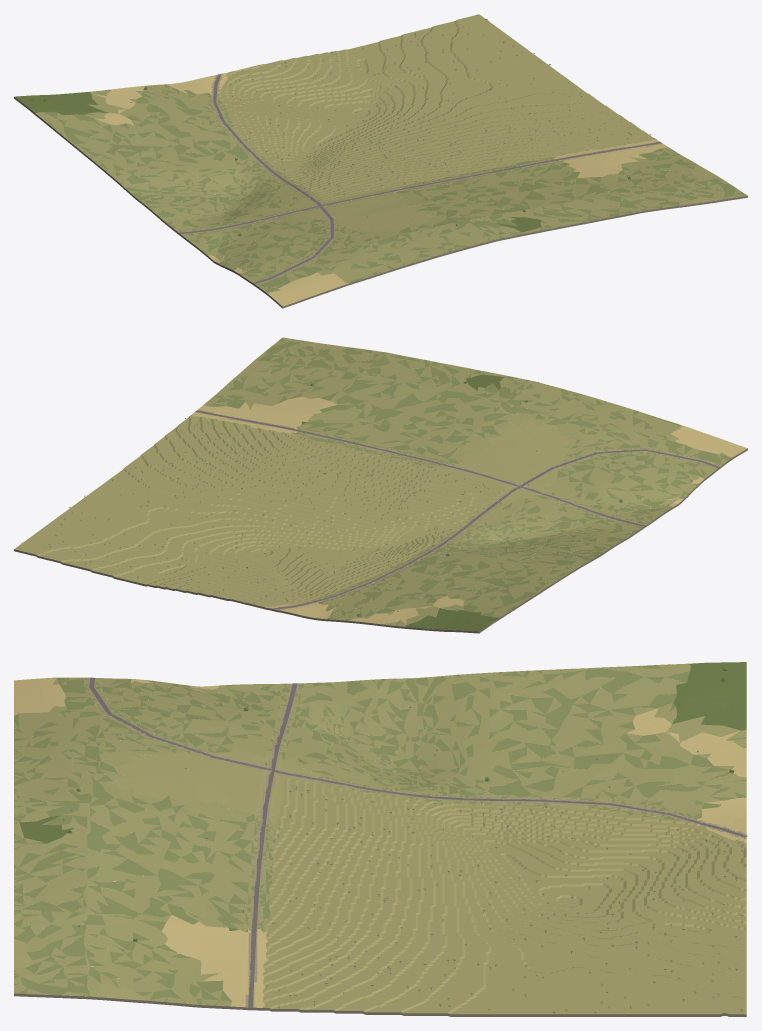
Rendered from parca_+13_-3-yakin.glb.
3 renders of one model, top to bottom at view 1: azimuth 30°, elevation 25°; view 2: azimuth 150°, elevation 25°; view 3: azimuth 270°, elevation 25°, orthographic. The views are drawn at different scales.
Parts seen in each view (by area): view 1: parca_+13_-3_arazi, parca_+13_-3_yollar, parca_+13_-3_bitkiler; view 2: parca_+13_-3_arazi, parca_+13_-3_yollar, parca_+13_-3_bitkiler; view 3: parca_+13_-3_arazi, parca_+13_-3_yollar, parca_+13_-3_bitkiler.
Part boxes in pixels (x1,y1,x2,y2): parca_+13_-3_arazi: (14,14,747,308); parca_+13_-3_yollar: (179,74,661,284); parca_+13_-3_bitkiler: (30,14,651,262); parca_+13_-3_arazi: (14,337,747,633); parca_+13_-3_yollar: (195,410,719,609); parca_+13_-3_bitkiler: (19,367,671,624); parca_+13_-3_arazi: (14,662,746,1016); parca_+13_-3_yollar: (89,677,747,1007); parca_+13_-3_bitkiler: (17,668,743,1013).
Size of the model in its own units: 1002 by 86.63 by 1002.
